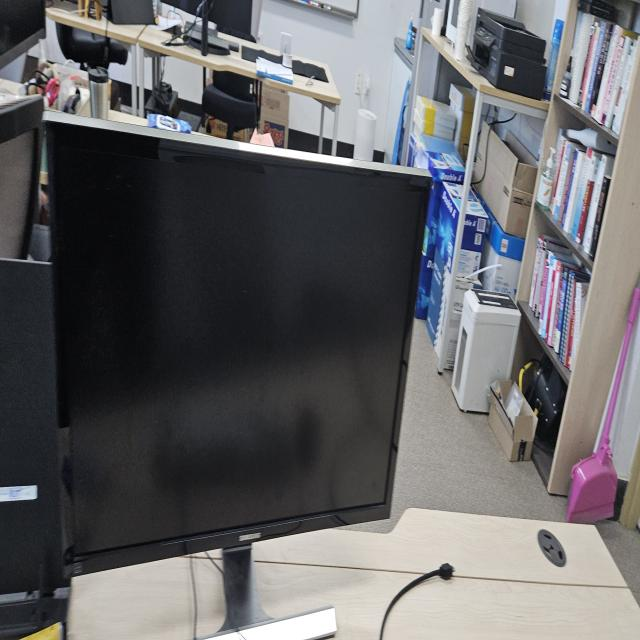Monitor: (41, 102, 433, 627)
